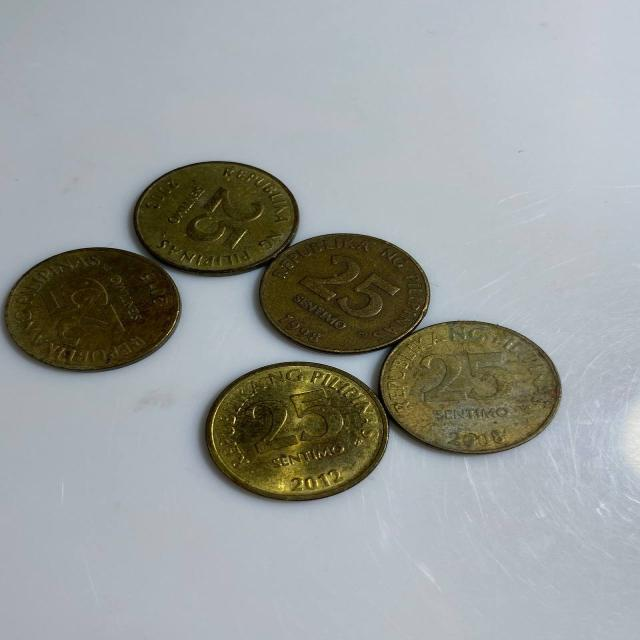25Cent_Old_Front: (307, 252, 404, 318), (418, 347, 514, 407), (245, 388, 339, 449), (48, 276, 127, 340), (185, 185, 264, 247)
